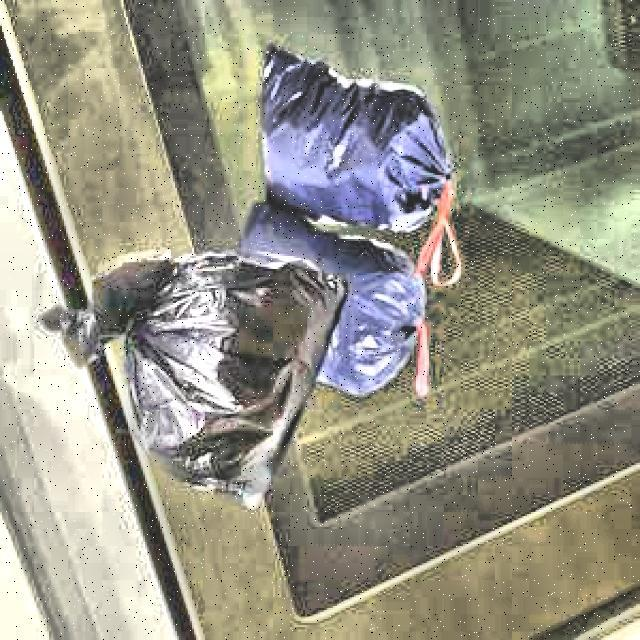Trashbag: (106, 250, 330, 488), (254, 65, 456, 226), (294, 235, 437, 407)
